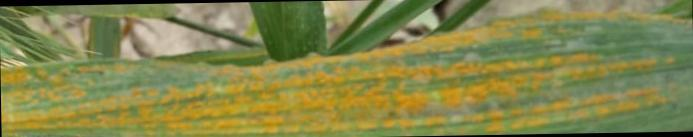Wheat: (1, 59, 518, 134)
